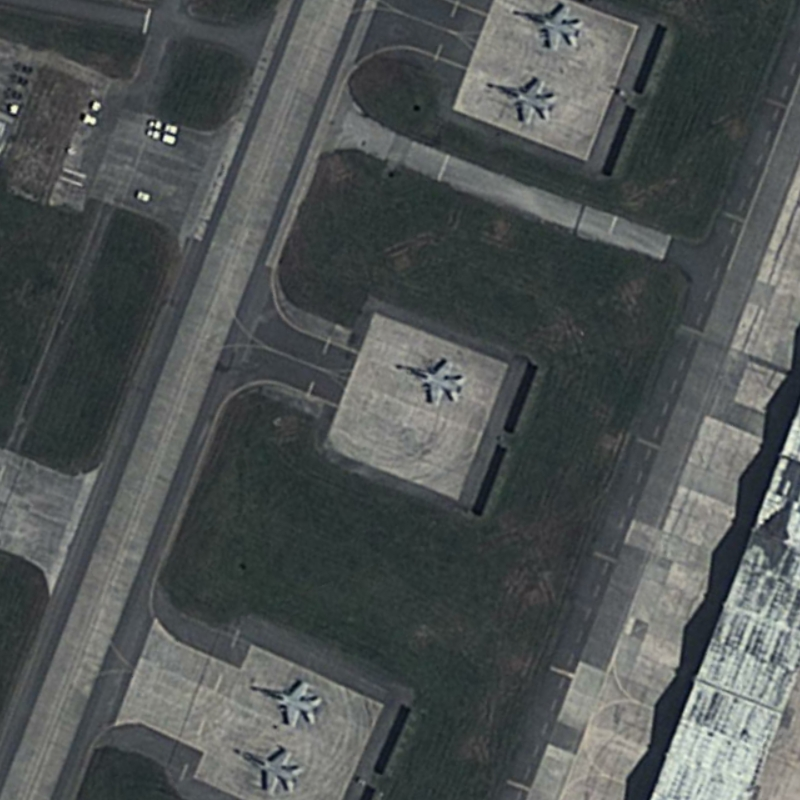A16: (383, 350, 471, 411), (226, 735, 307, 800), (479, 69, 564, 128), (249, 672, 331, 733), (504, 1, 589, 57)
